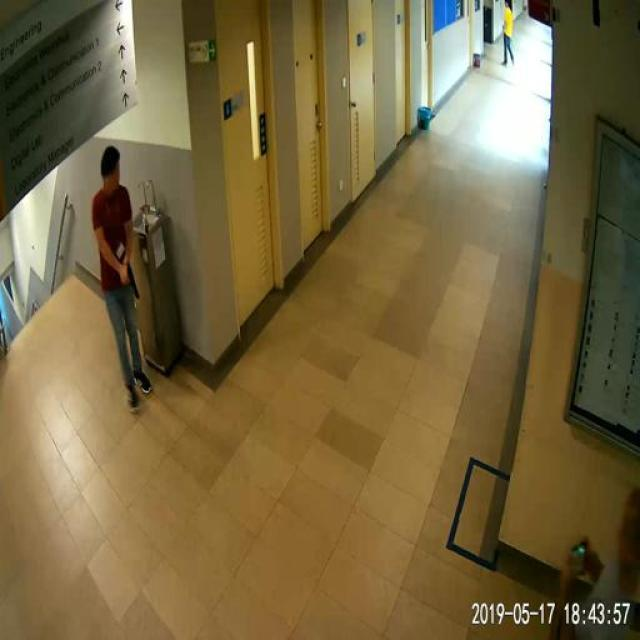Gun: (101, 252, 143, 300)
